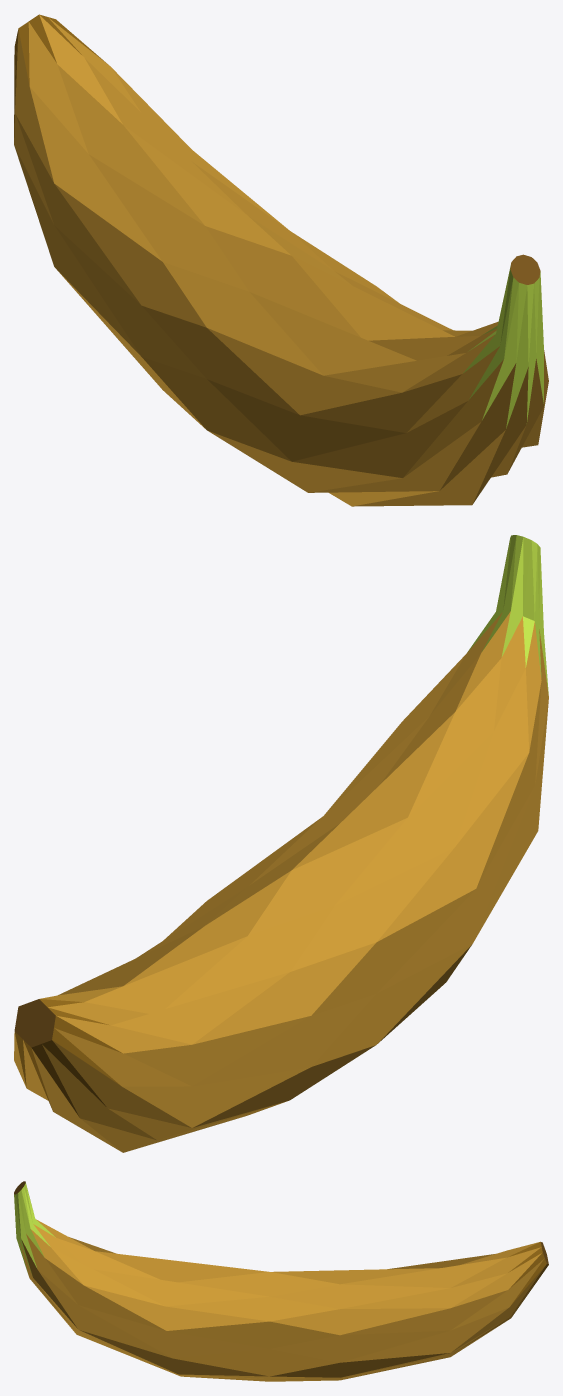
Rendered from Banana.fbx.
3 renders of one model, top to bottom at view 1: azimuth 30°, elevation 25°; view 2: azimuth 150°, elevation 25°; view 3: azimuth 270°, elevation 25°, orthographic. The views are drawn at different scales.
Visible parts, largest first — view 1: Cylinder; view 2: Cylinder; view 3: Cylinder.
Part boxes in pixels (x1,y1,x2,y2): Cylinder: (14,14,548,506); Cylinder: (14,535,548,1152); Cylinder: (14,1181,548,1381).
Size of the model in its own units: 44.95 by 88.4 by 215.
